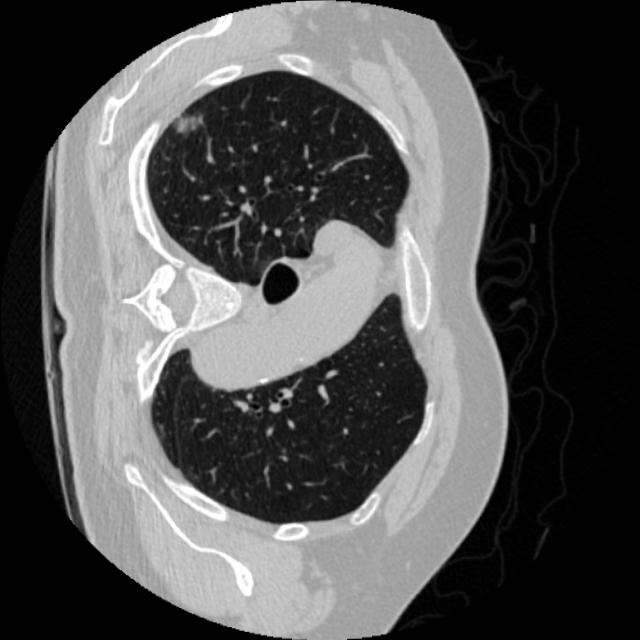nodule: (157, 90, 220, 153)
